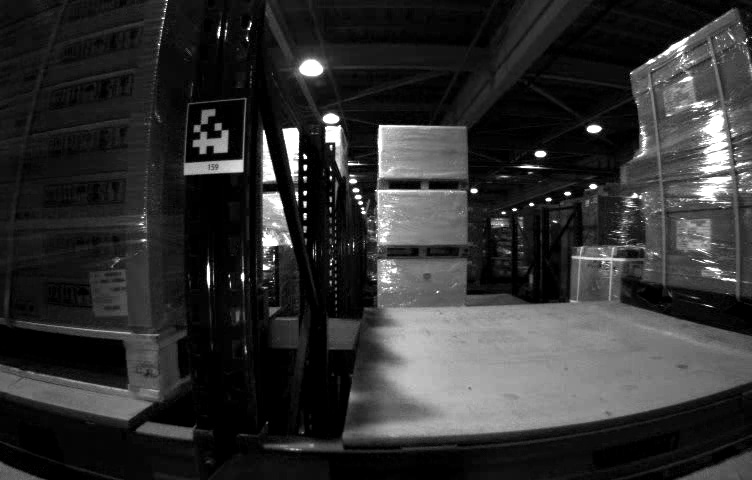True Barcode: (88, 265, 128, 316)
